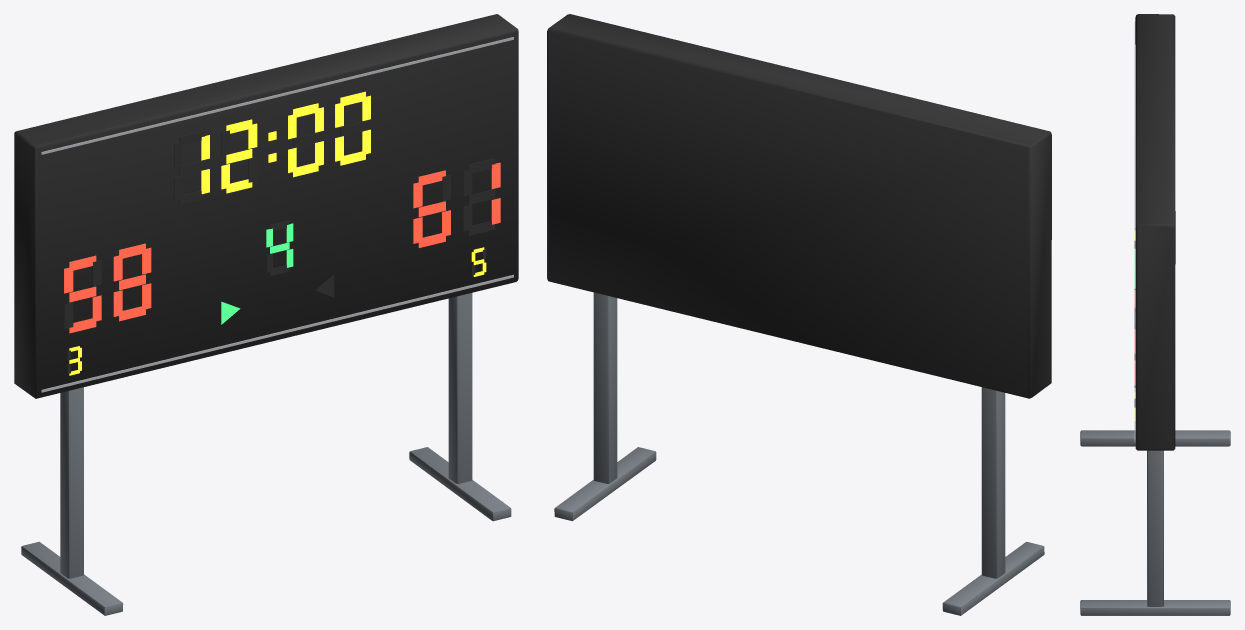
File: vinish-led-scoreboard.glb
3 renders of one model, left to right at view 1: azimuth 30°, elevation 25°; view 2: azimuth 150°, elevation 25°; view 3: azimuth 270°, elevation 25°, orthographic. The views are drawn at different scales.
Visible parts, largest first — view 1: LED_Scoreboard; view 2: LED_Scoreboard; view 3: LED_Scoreboard.
Part boxes in pixels (x1=…): LED_Scoreboard: x1=14, y1=14, x2=518, y2=615; LED_Scoreboard: x1=547, y1=14, x2=1051, y2=615; LED_Scoreboard: x1=1080, y1=14, x2=1230, y2=615.
Size of the model in its own units: 3 by 2.7 by 0.8999.
